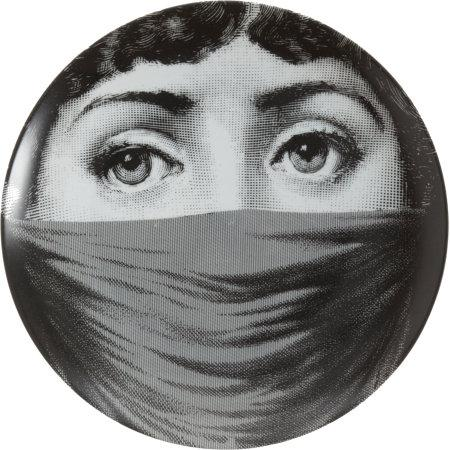person: (39, 12, 412, 430)
